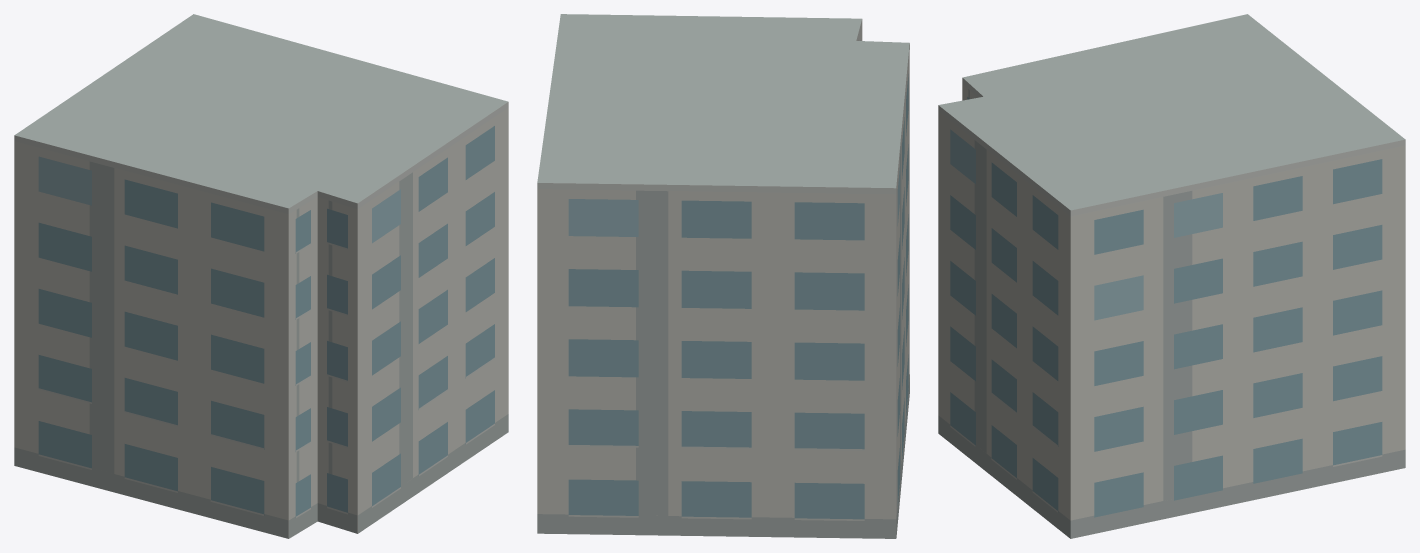
The model's file is survey-upis-32891442.glb.
3 renders of one model, left to right at view 1: azimuth 30°, elevation 25°; view 2: azimuth 150°, elevation 25°; view 3: azimuth 270°, elevation 25°, orthographic. The views are drawn at different scales.
Visible parts, largest first — view 1: survey-upis-32891442.tmp; view 2: survey-upis-32891442.tmp; view 3: survey-upis-32891442.tmp.
Part boxes in pixels (x1,y1,x2,y2): survey-upis-32891442.tmp: [14, 14, 508, 538]; survey-upis-32891442.tmp: [537, 14, 909, 538]; survey-upis-32891442.tmp: [938, 14, 1405, 538].
Size of the model in its own units: 17.27 by 13.45 by 17.36.
